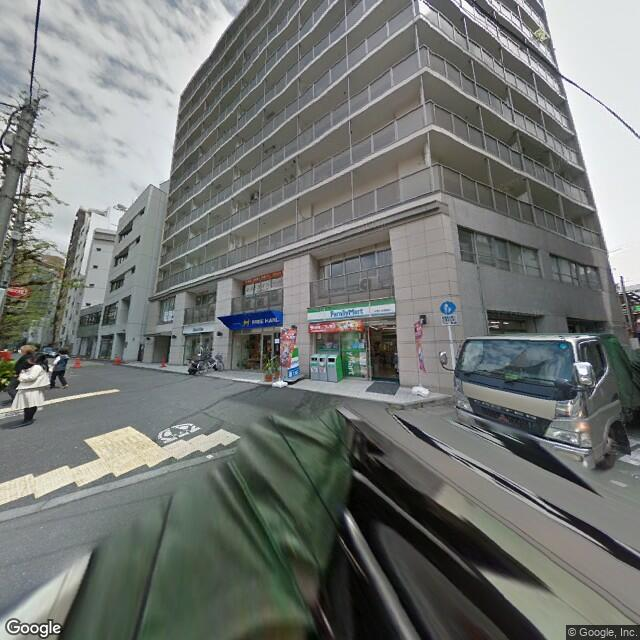family_mart: (306, 295, 397, 324)
